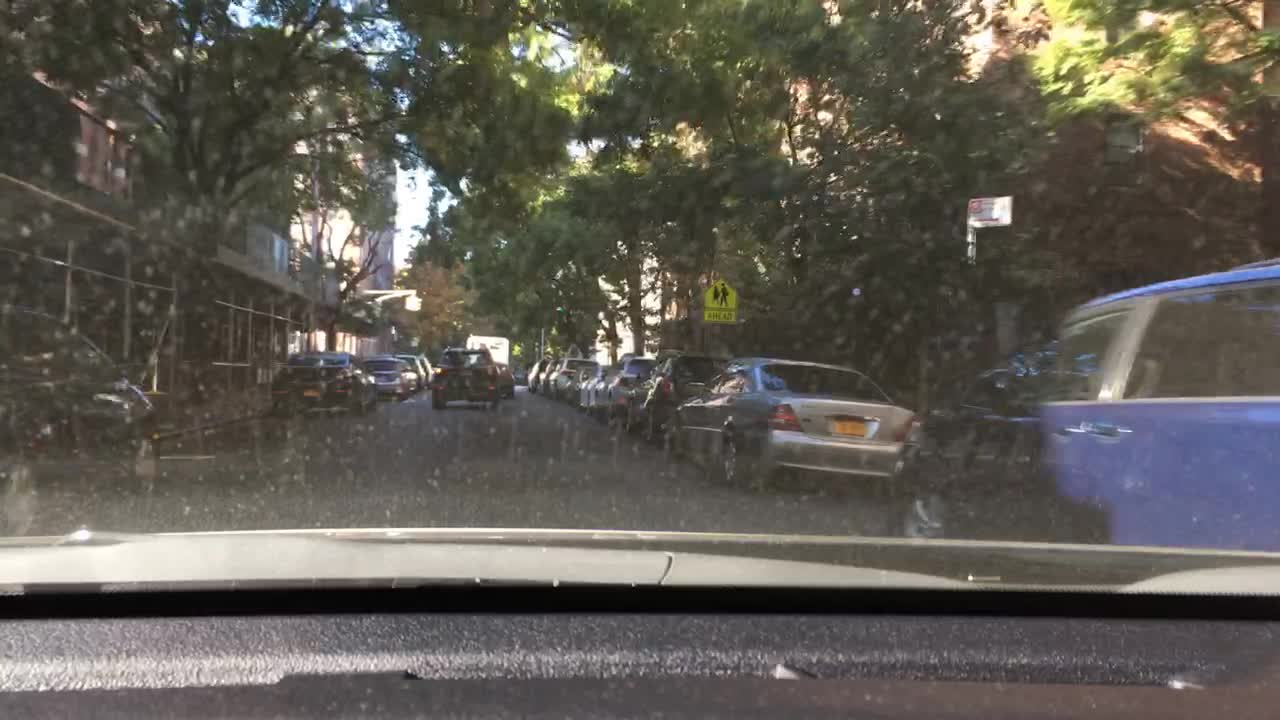car: (887, 257, 1278, 549), (0, 309, 159, 535), (665, 355, 917, 485), (624, 353, 727, 442), (272, 350, 376, 416), (594, 352, 655, 429), (432, 346, 500, 409), (361, 356, 420, 398), (549, 358, 598, 403), (576, 366, 608, 413), (393, 352, 428, 390), (536, 359, 557, 397), (493, 361, 515, 396), (527, 358, 548, 393), (417, 354, 433, 388)
traffic light: (408, 297, 416, 311), (416, 297, 422, 310), (404, 297, 410, 310)
traffic sign: (703, 278, 736, 321), (968, 197, 1011, 226)
truck: (465, 335, 508, 363)
